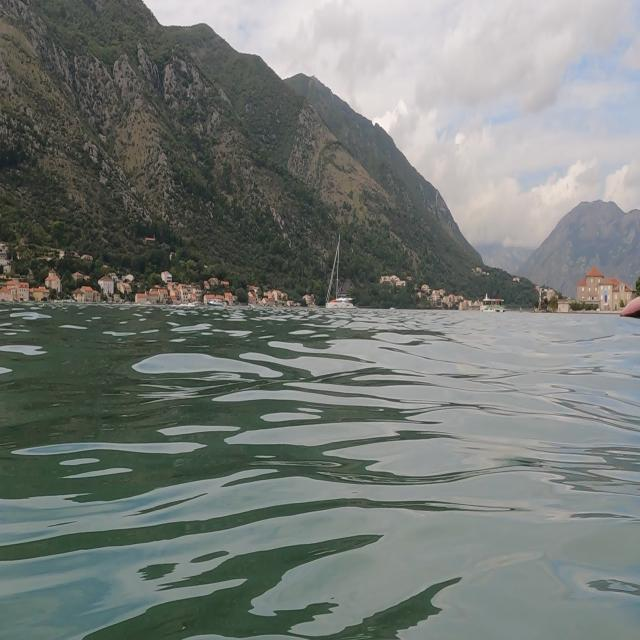boat: (323, 228, 355, 312)
buoy: (617, 292, 640, 324)
